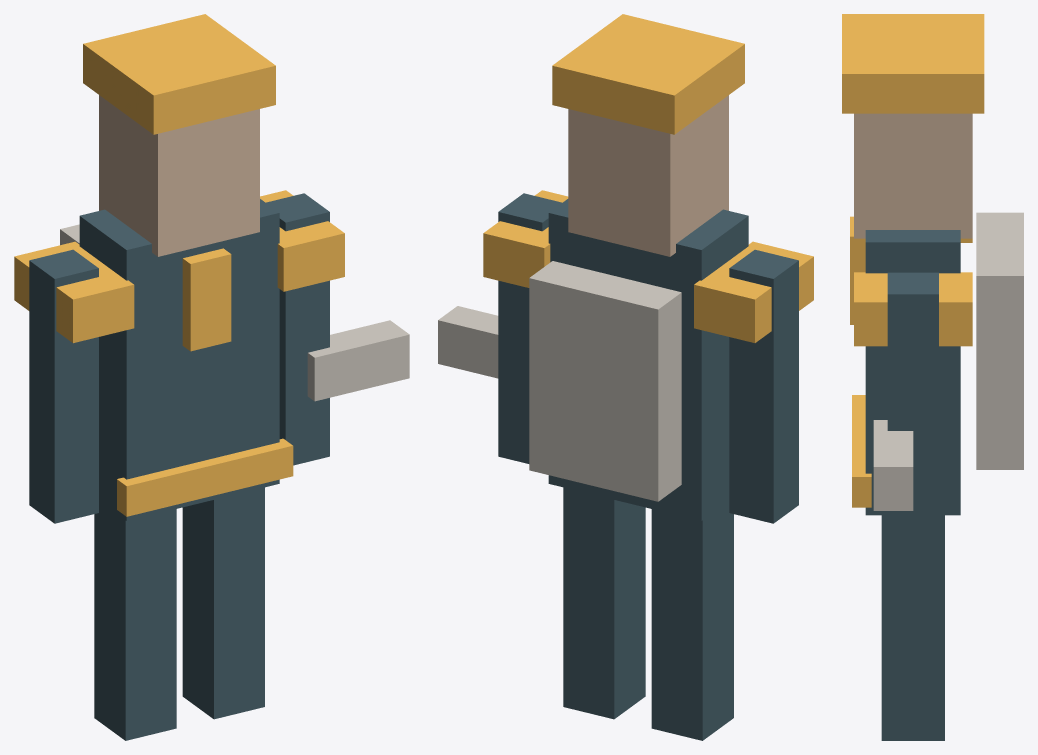
Rendered from 12_makoa_runeclasp_engineer_under_central.glb.
3 views of the same model, side by side, from view 1: azimuth 30°, elevation 25°; view 2: azimuth 150°, elevation 25°; view 3: azimuth 270°, elevation 25° (orthographic).
Parts seen in each view (by area): view 1: Makoa Runeclasp, Engineer under Central; view 2: Makoa Runeclasp, Engineer under Central; view 3: Makoa Runeclasp, Engineer under Central.
Boxes of the visible parts, box(x1,y1,x2,y2) form: Makoa Runeclasp, Engineer under Central: box(14, 14, 409, 740); Makoa Runeclasp, Engineer under Central: box(438, 14, 813, 740); Makoa Runeclasp, Engineer under Central: box(842, 14, 1023, 740).
Bounding box in the file's own units: 0.9458 × 1.71 × 0.4245.
